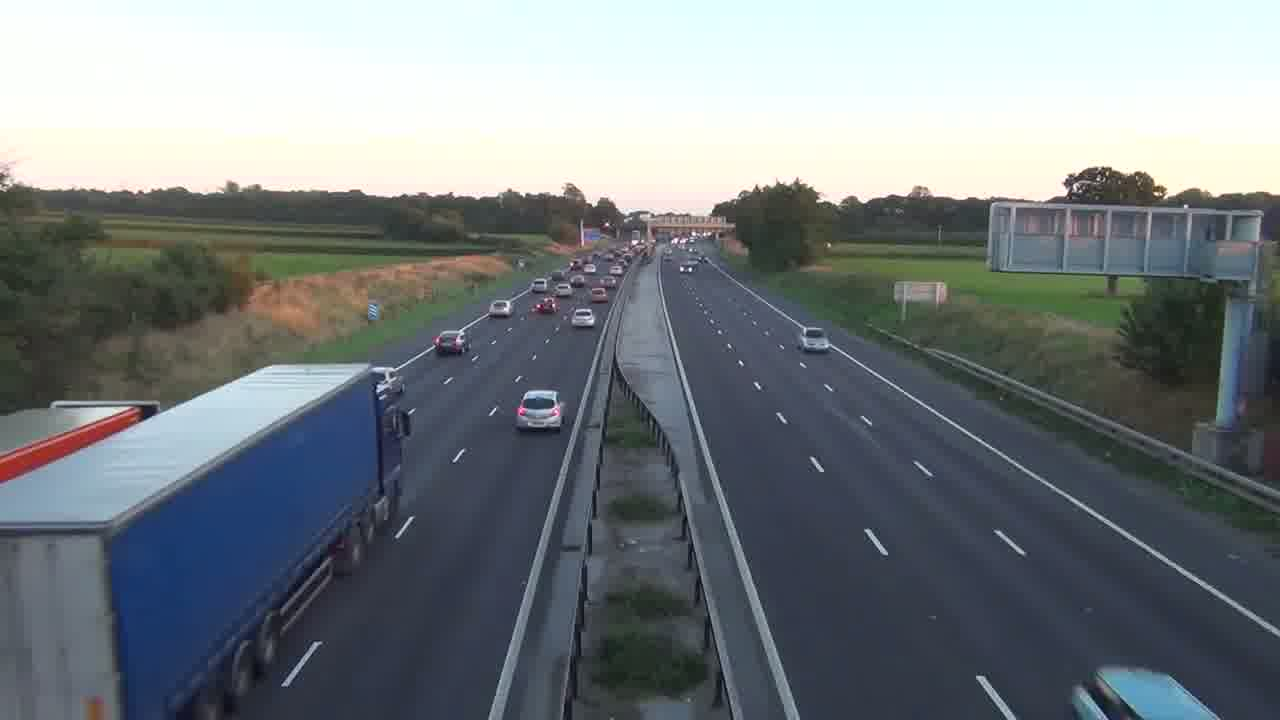car: (1069, 664, 1222, 720), (514, 389, 565, 432), (433, 329, 466, 355), (571, 307, 595, 328), (488, 299, 512, 319), (534, 296, 558, 314)
